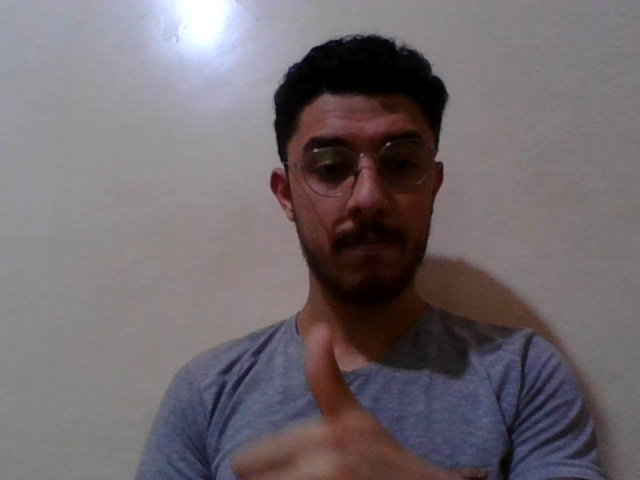Yes: (214, 312, 434, 480)
